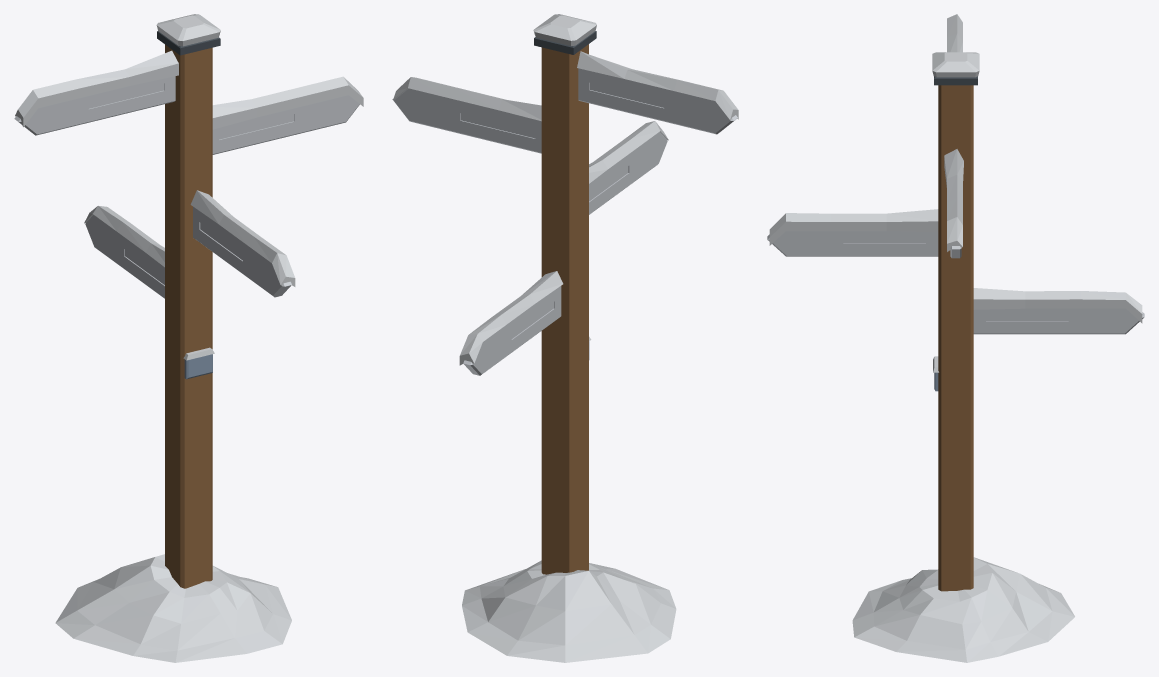
The model's file is alpine-fingerpost-d47349.glb.
3 views of the same model, side by side, from view 1: azimuth 30°, elevation 25°; view 2: azimuth 150°, elevation 25°; view 3: azimuth 270°, elevation 25° (orthographic). The views are drawn at different scales.
Visible parts, largest first — view 1: fingerpost; view 2: fingerpost; view 3: fingerpost.
Part boxes in pixels (x1,y1,x2,y2): fingerpost: (14, 14, 363, 662); fingerpost: (392, 14, 738, 662); fingerpost: (767, 14, 1144, 662).
Bounding box in the file's own units: 1.5 × 2.46 × 1.5.
